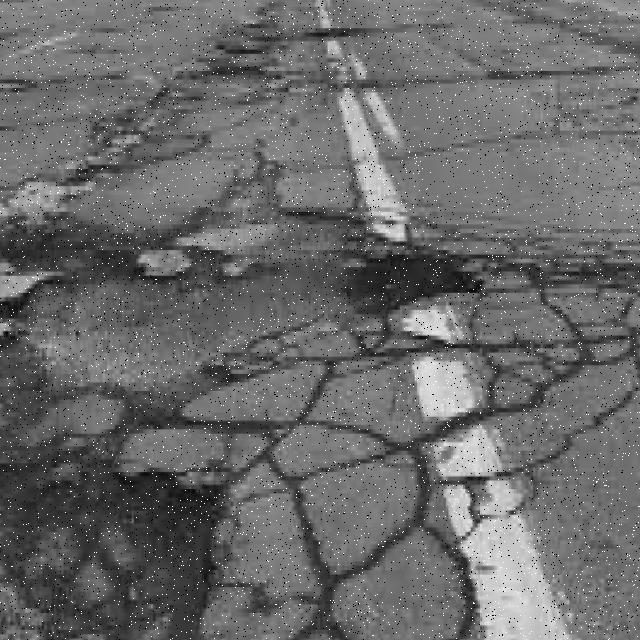pothole: (0, 327, 228, 640)
